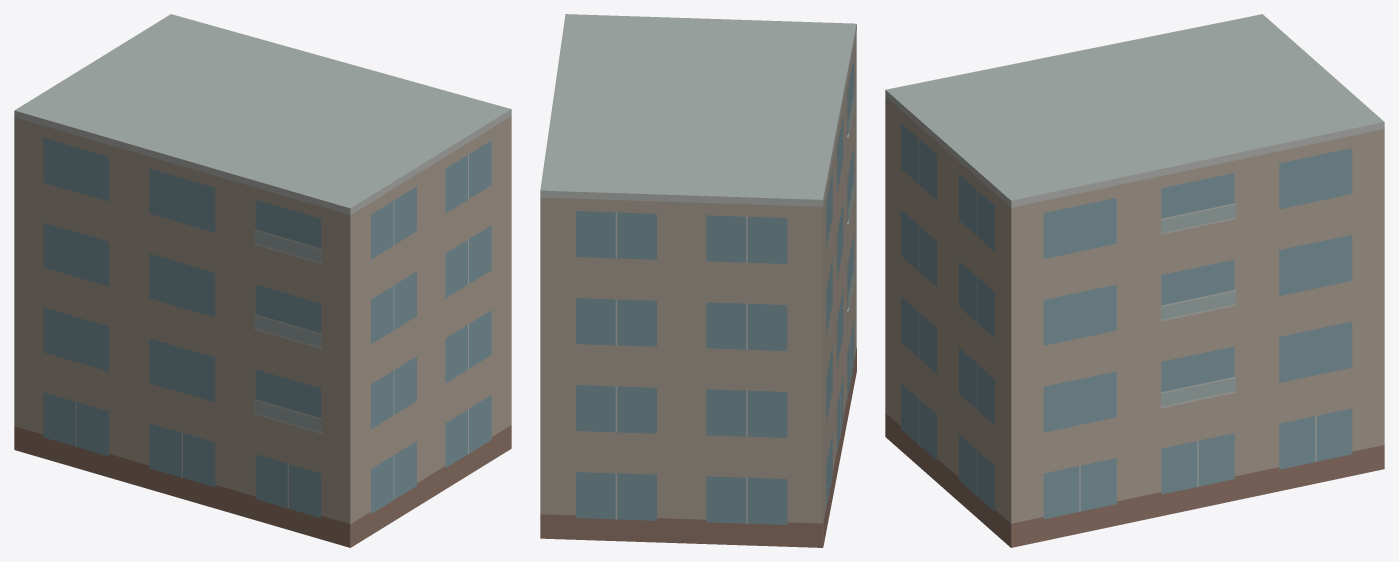
File: survey-upis-32705155.glb
3 renders of one model, left to right at view 1: azimuth 30°, elevation 25°; view 2: azimuth 150°, elevation 25°; view 3: azimuth 270°, elevation 25°, orthographic. The views are drawn at different scales.
Parts seen in each view (by area): view 1: survey-upis-32705155.tmp; view 2: survey-upis-32705155.tmp; view 3: survey-upis-32705155.tmp.
Part boxes in pixels (bbox=[...]): survey-upis-32705155.tmp: bbox=[14, 14, 511, 547]; survey-upis-32705155.tmp: bbox=[540, 14, 856, 547]; survey-upis-32705155.tmp: bbox=[885, 14, 1384, 547].
Size of the model in its own units: 14.09 by 12.2 by 15.91.
